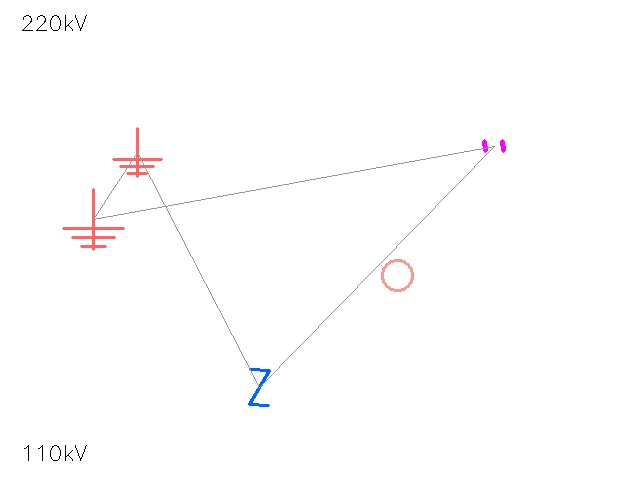capacitor: (479, 131, 509, 161)
circuit_breaker: (239, 367, 279, 407)
feeder_terminal: (366, 244, 428, 306)
ground: (63, 189, 123, 249), (113, 128, 161, 176)
